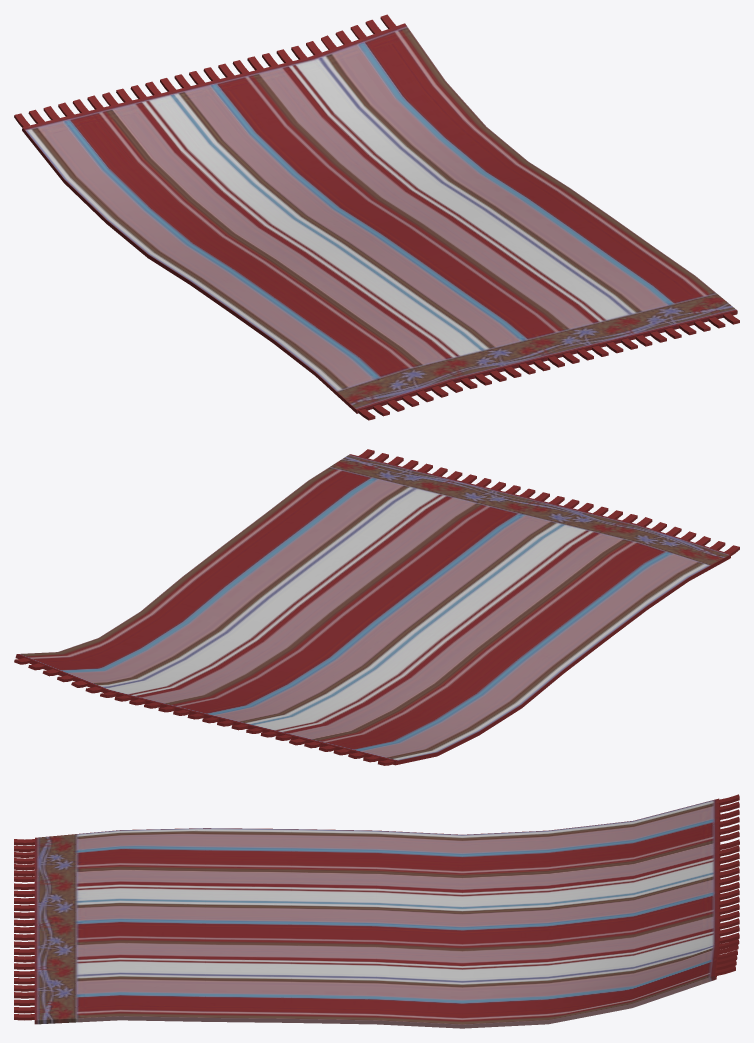
The model's file is toalla2.glb.
3 renders of one model, top to bottom at view 1: azimuth 30°, elevation 25°; view 2: azimuth 150°, elevation 25°; view 3: azimuth 270°, elevation 25°, orthographic. The views are drawn at different scales.
Visible parts, largest first — view 1: Mesh (2); view 2: Mesh (2); view 3: Mesh (2).
Part boxes in pixels (x1,y1,x2,y2): Mesh (2): (14,14,739,420); Mesh (2): (14,449,739,765); Mesh (2): (14,794,739,1028).
Size of the model in its own units: 0.3945 by 0.0578 by 0.6363.
1 material, 1 textured.
